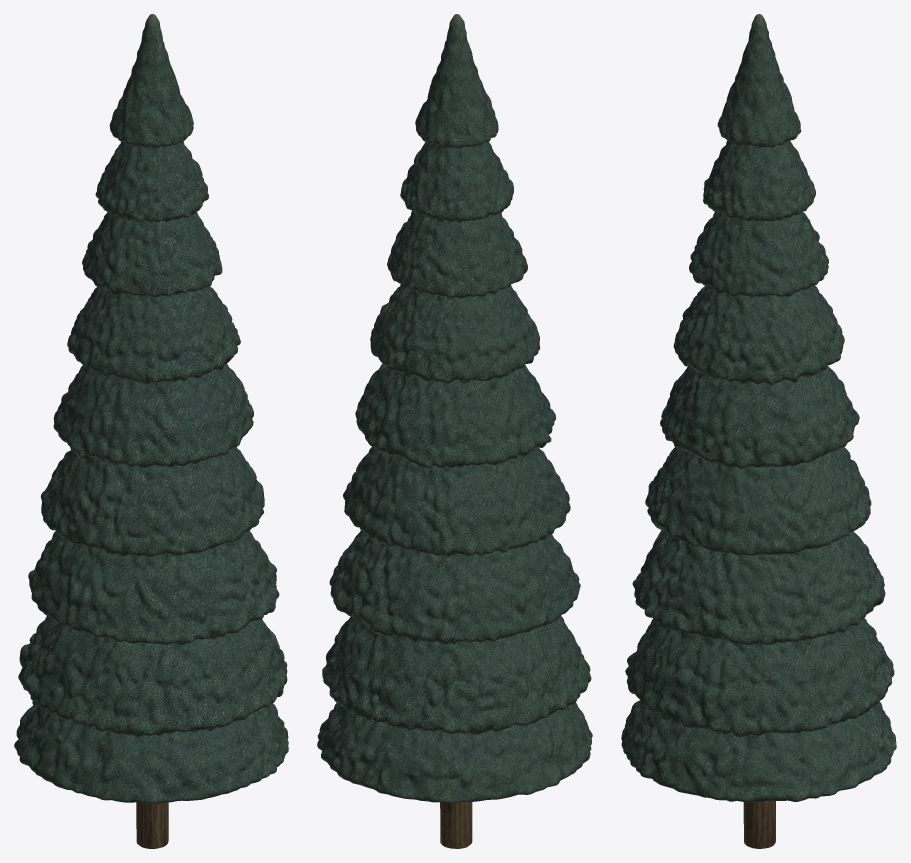
File: abeto.glb
The picture shows the model from 3 angles, left to right: view 1: azimuth 30°, elevation 25°; view 2: azimuth 150°, elevation 25°; view 3: azimuth 270°, elevation 25°; orthographic projection.
Visible parts, largest first — view 1: aligerado; view 2: aligerado; view 3: aligerado.
Boxes of the visible parts, <box> form: aligerado: <box>14,14,288,848</box>; aligerado: <box>317,14,592,848</box>; aligerado: <box>621,14,896,848</box>.
Bounding box in the file's own units: 3.13 × 10.5 × 3.16.
1 material, 1 textured.
